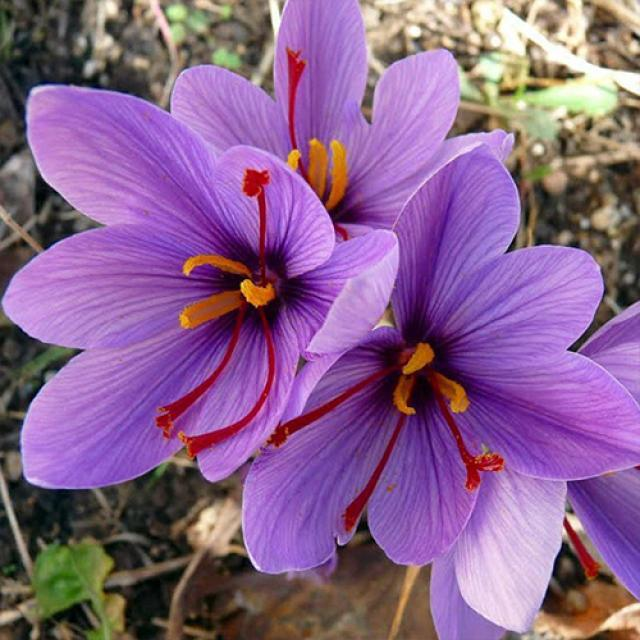Flower: (257, 170, 640, 578), (21, 77, 334, 490), (178, 3, 487, 235)
stigma: (183, 313, 285, 452), (272, 340, 386, 446), (159, 318, 240, 428), (340, 410, 410, 524), (433, 392, 505, 492), (281, 40, 307, 152), (245, 162, 275, 237)
